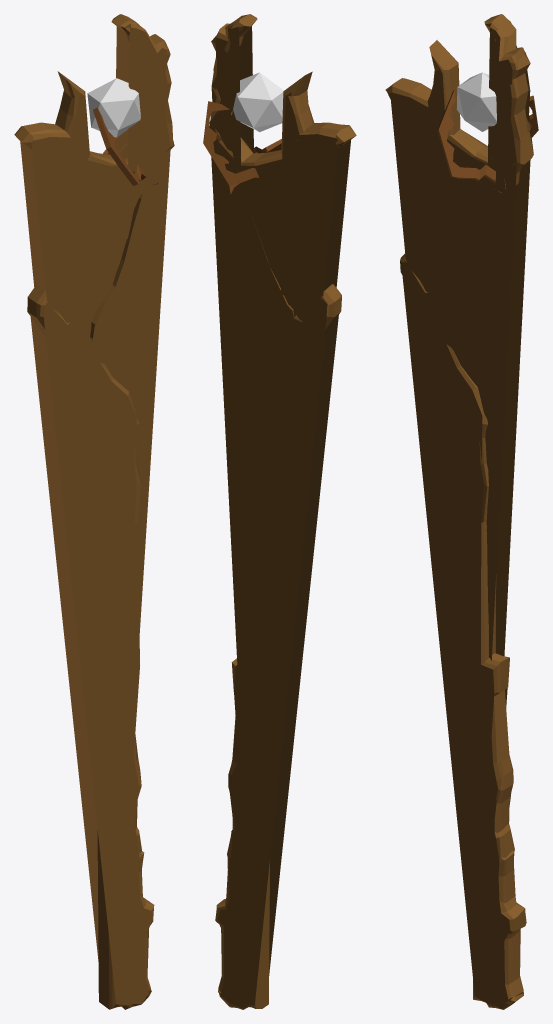
File: Magic Staff .fbx
3 views of the same model, side by side, from view 1: azimuth 30°, elevation 25°; view 2: azimuth 150°, elevation 25°; view 3: azimuth 330°, elevation 25° (orthographic).
Visible parts, largest first — view 1: Plane, Icosphere, Plane.001; view 2: Plane, Icosphere, Plane.002; view 3: Plane, Icosphere, Plane.001.
Boxes of the visible parts, left/top/right/bottom form: Plane: left=14, top=14, right=174, bottom=1009; Icosphere: left=87, top=78, right=140, bottom=137; Plane.001: left=93, top=107, right=145, bottom=185; Plane: left=209, top=14, right=356, bottom=1009; Icosphere: left=231, top=72, right=283, bottom=132; Plane.002: left=203, top=101, right=259, bottom=194; Plane: left=385, top=14, right=533, bottom=1009; Icosphere: left=457, top=72, right=496, bottom=131; Plane.001: left=437, top=90, right=495, bottom=183.
Size of the model in its own units: 68.22 by 441 by 39.86.
